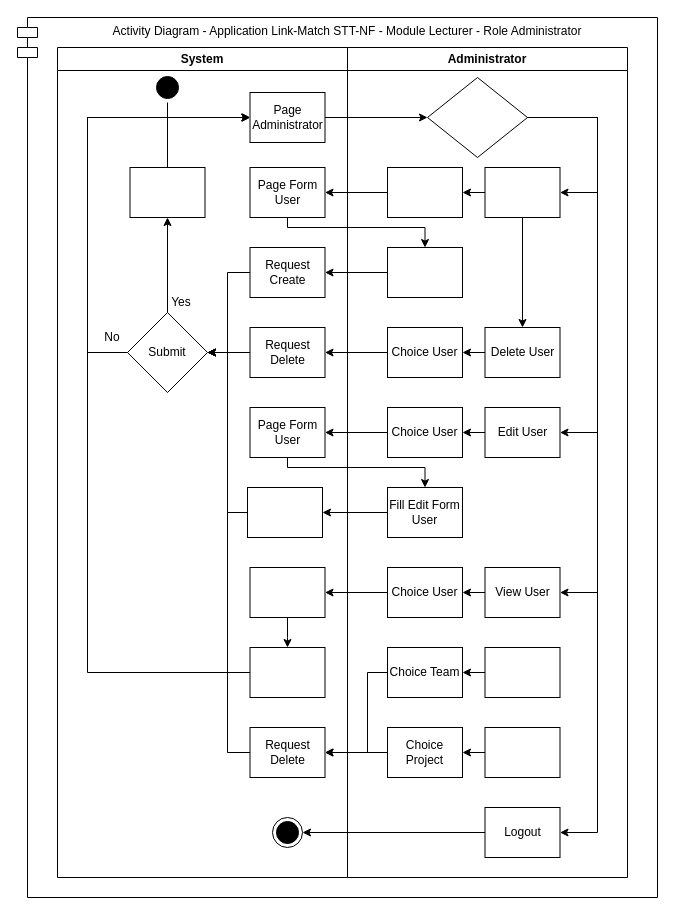
The diagram is 675 pixels wide and 915 high, and some of its shapes have lost their labels. Here are the shapes that lost their labels. From the top down, the centre of each, then its label:
point 477,117: Choose Menu
point 167,192: Save
point 424,192: Create User
point 522,192: Manage User
point 424,272: Fill Form User
point 284,512: Request Update
point 287,592: View Form User
point 287,672: Request View
point 522,672: Delete Team
point 522,752: Delete Project
